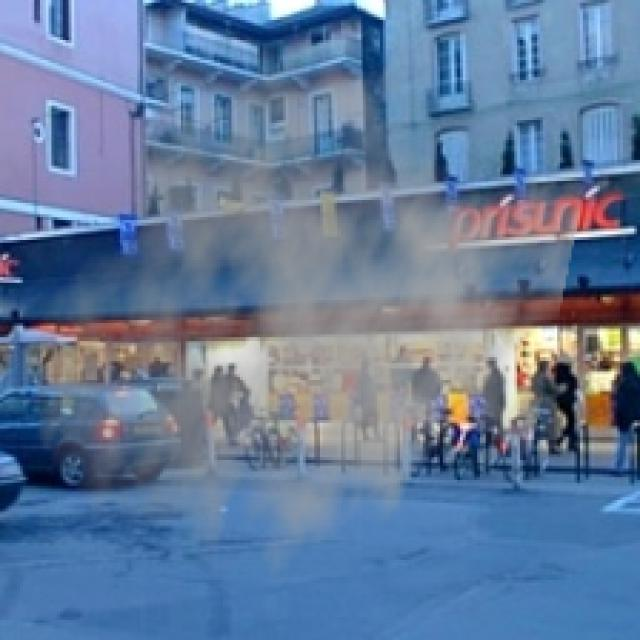smoke: (28, 37, 586, 603)
